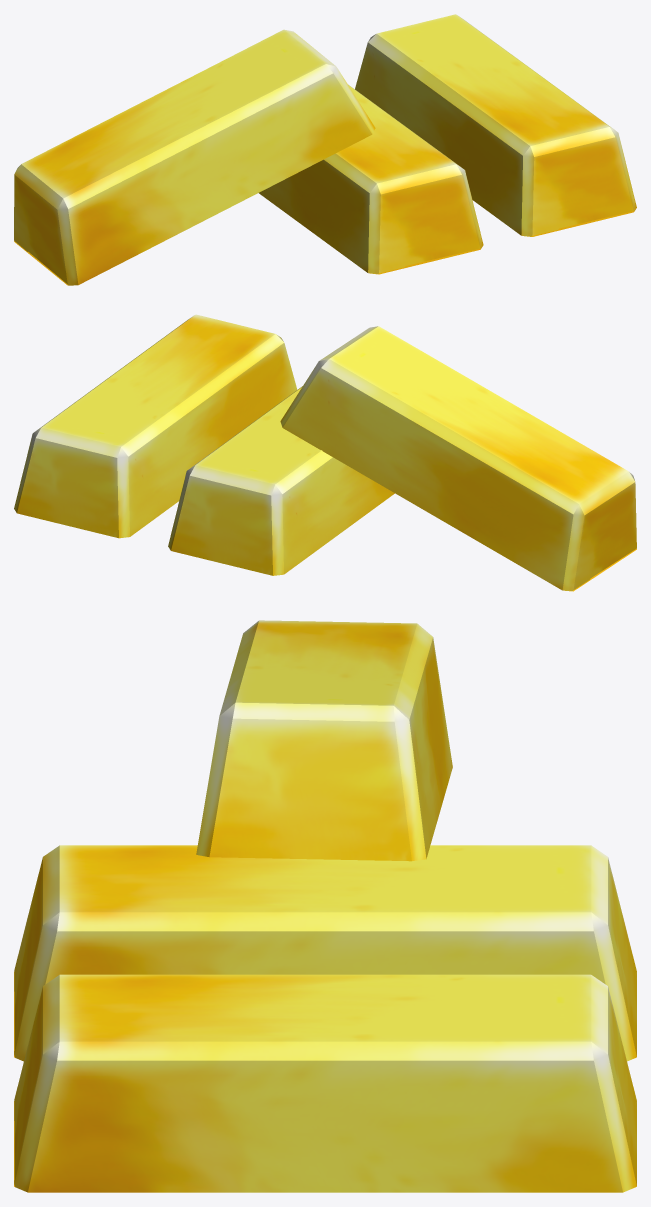
The model's file is gold_002.fbx.
3 views of the same model, one above another, from view 1: azimuth 30°, elevation 25°; view 2: azimuth 150°, elevation 25°; view 3: azimuth 270°, elevation 25° (orthographic). The views are drawn at different scales.
Visible parts, largest first — view 1: gold_002; view 2: gold_002; view 3: gold_002.
Boxes of the visible parts, left/top/right/bottom form: gold_002: left=14, top=14, right=636, bottom=285; gold_002: left=14, top=314, right=636, bottom=591; gold_002: left=14, top=620, right=636, bottom=1192.
Bounding box in the file's own units: 36.45 × 10.93 × 22.18.
